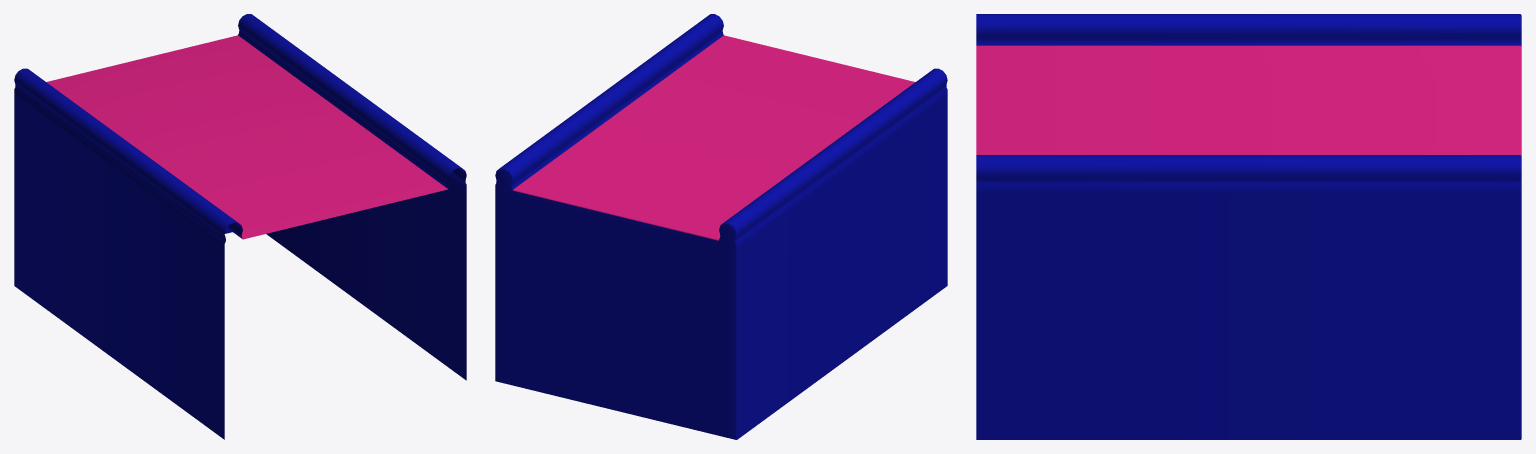
The model's file is Strunjaca_pocetna.fbx.
The picture shows the model from 3 angles, left to right: view 1: azimuth 30°, elevation 25°; view 2: azimuth 150°, elevation 25°; view 3: azimuth 270°, elevation 25°; orthographic projection. The views are drawn at different scales.
Visible parts, largest first — view 1: Strunjaca_pocetna; view 2: Strunjaca_pocetna; view 3: Strunjaca_pocetna.
Part boxes in pixels (bbox=[...]): Strunjaca_pocetna: bbox=[14, 14, 466, 439]; Strunjaca_pocetna: bbox=[495, 14, 947, 439]; Strunjaca_pocetna: bbox=[976, 14, 1521, 439].
Bounding box in the file's own units: 5.3 × 4.5 × 8.
